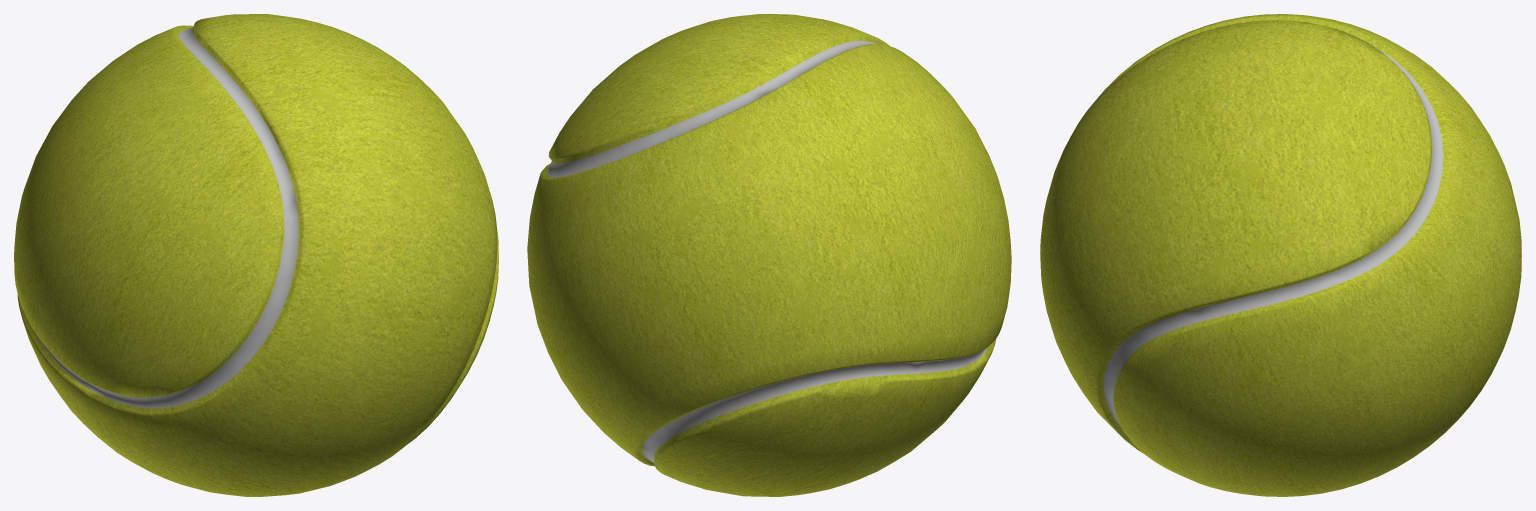
The model's file is sf_tennis_ball_2_4k.glb.
The picture shows the model from 3 angles, left to right: view 1: azimuth 30°, elevation 25°; view 2: azimuth 150°, elevation 25°; view 3: azimuth 270°, elevation 25°; orthographic projection.
Visible parts, largest first — view 1: Object_2; view 2: Object_2; view 3: Object_2.
Part boxes in pixels (left/top/right/bottom): Object_2: left=14, top=14, right=498, bottom=496; Object_2: left=527, top=14, right=1011, bottom=496; Object_2: left=1040, top=14, right=1521, bottom=496.
Bounding box in the file's own units: 0.067 × 0.067 × 0.0669.
Materials: 1 (1 with a texture image).
